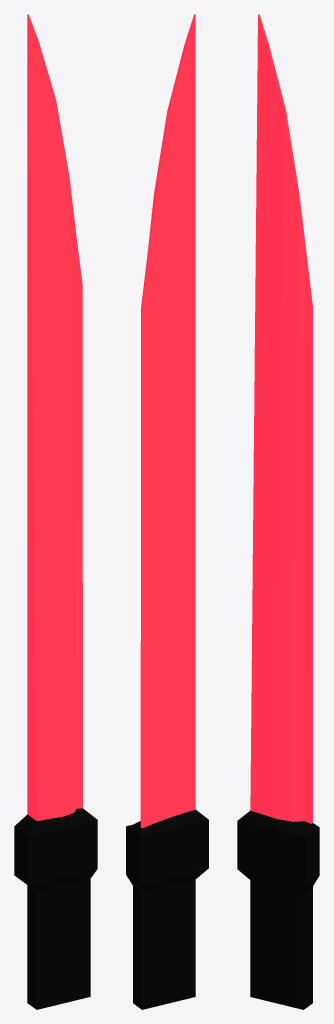
Rendered from sword.fbx.
The picture shows the model from 3 angles, left to right: view 1: azimuth 30°, elevation 25°; view 2: azimuth 210°, elevation 25°; view 3: azimuth 330°, elevation 25°; orthographic projection.
Visible parts, largest first — view 1: Cube; view 2: Cube; view 3: Cube.
Part boxes in pixels (left/top/right/bottom): Cube: left=14, top=14, right=97, bottom=1009; Cube: left=126, top=14, right=208, bottom=1009; Cube: left=237, top=14, right=319, bottom=1009.
Size of the model in its own units: 59.69 by 813 by 21.11.
